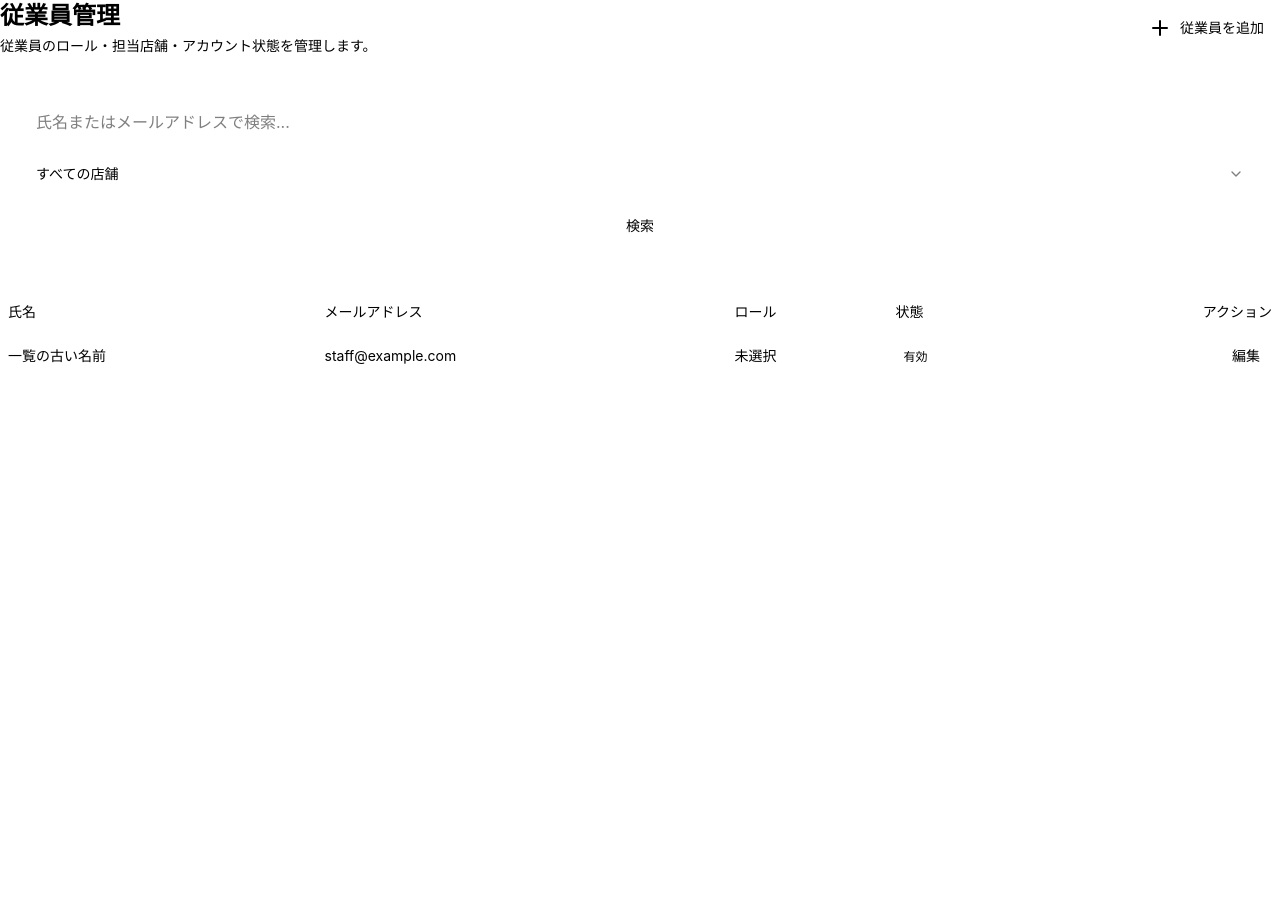
Test: 従業員 の詳細ライフサイクル › 未着の詳細を閉じ、同じ ID を開き直した後の古い失敗を無視する
Click the button "編集".
click(1246, 356)  # box [1220, 340, 1272, 372]
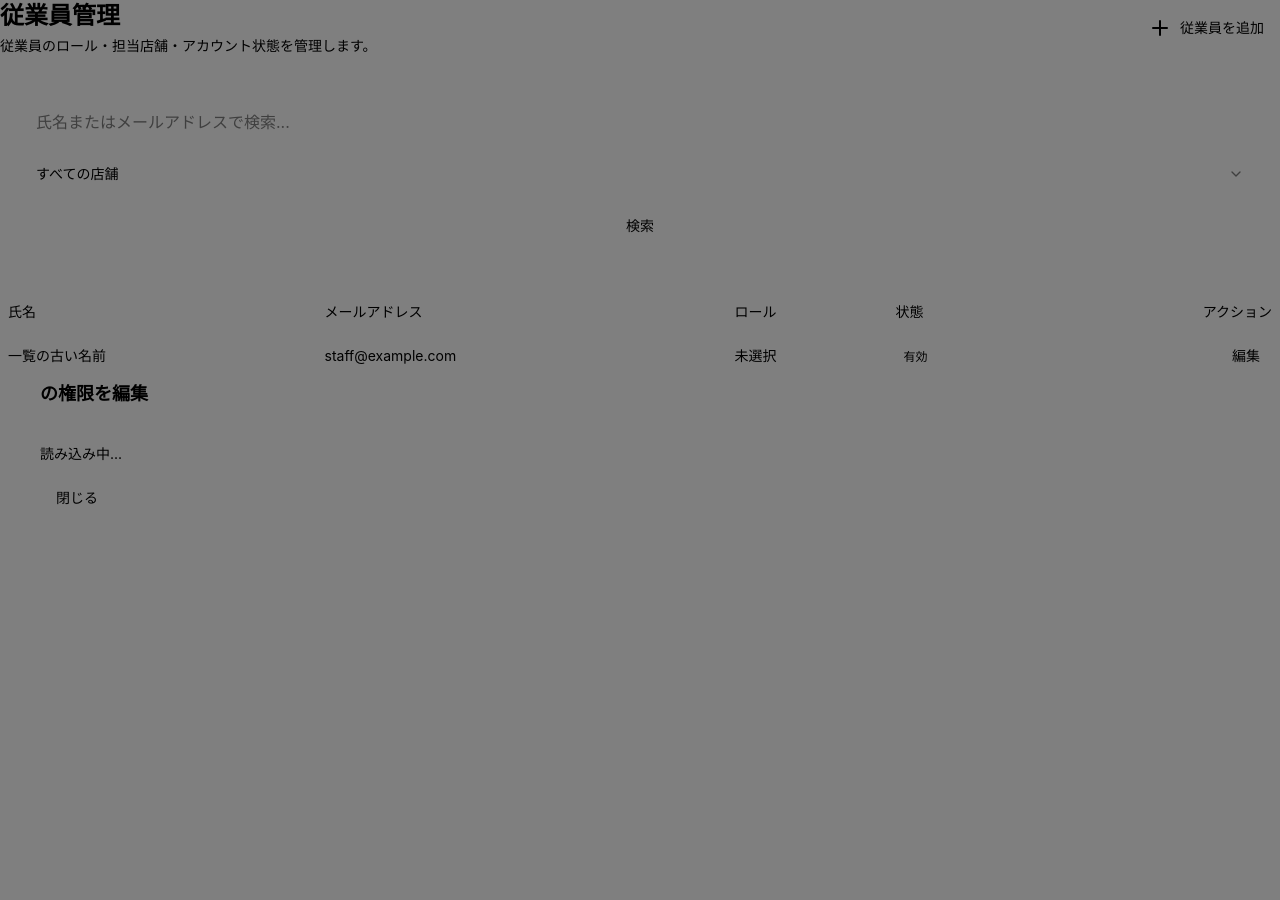
Click the button "閉じる".
click(77, 498)  # box [40, 480, 114, 516]
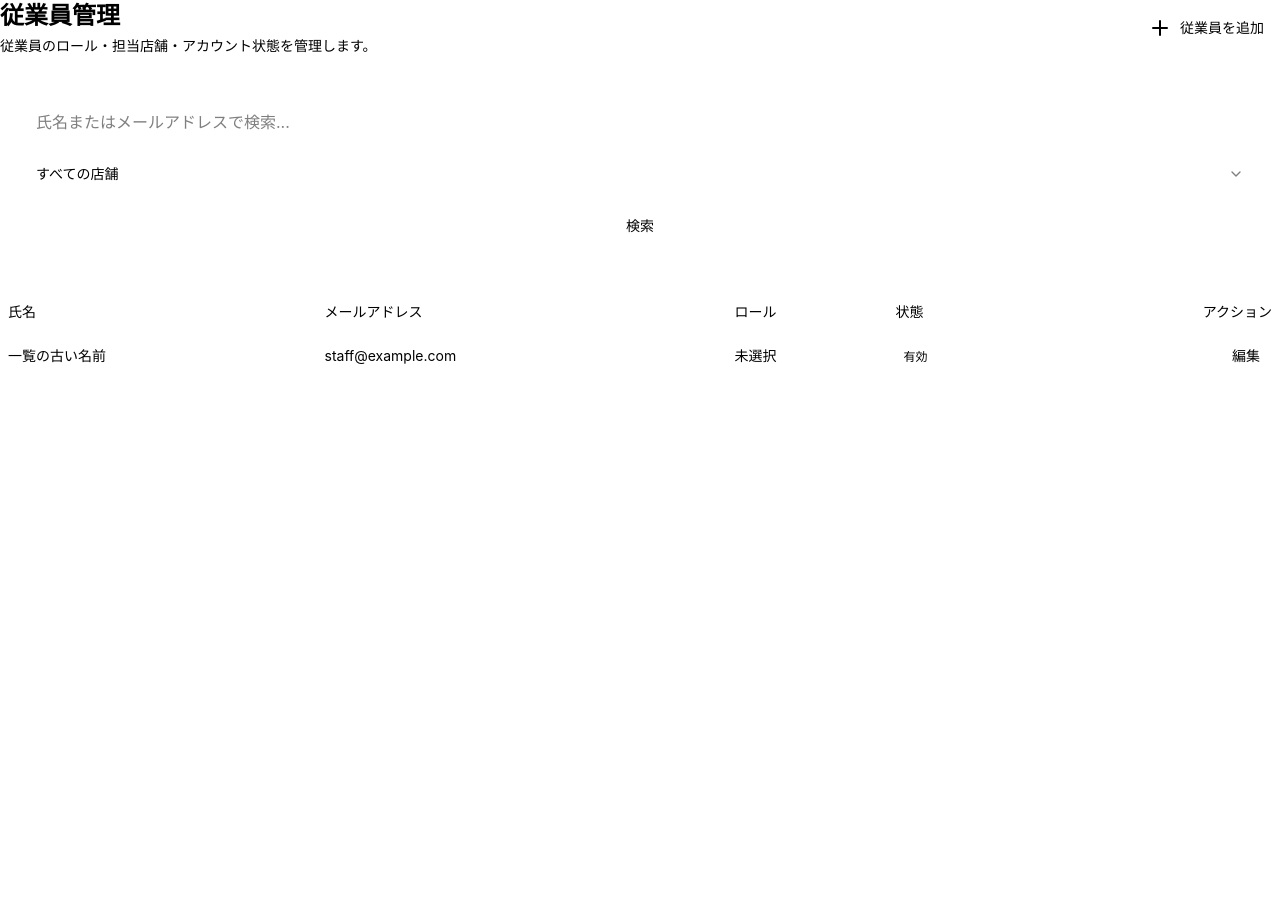
Click the button "編集".
click(1246, 356)  # box [1220, 340, 1272, 372]
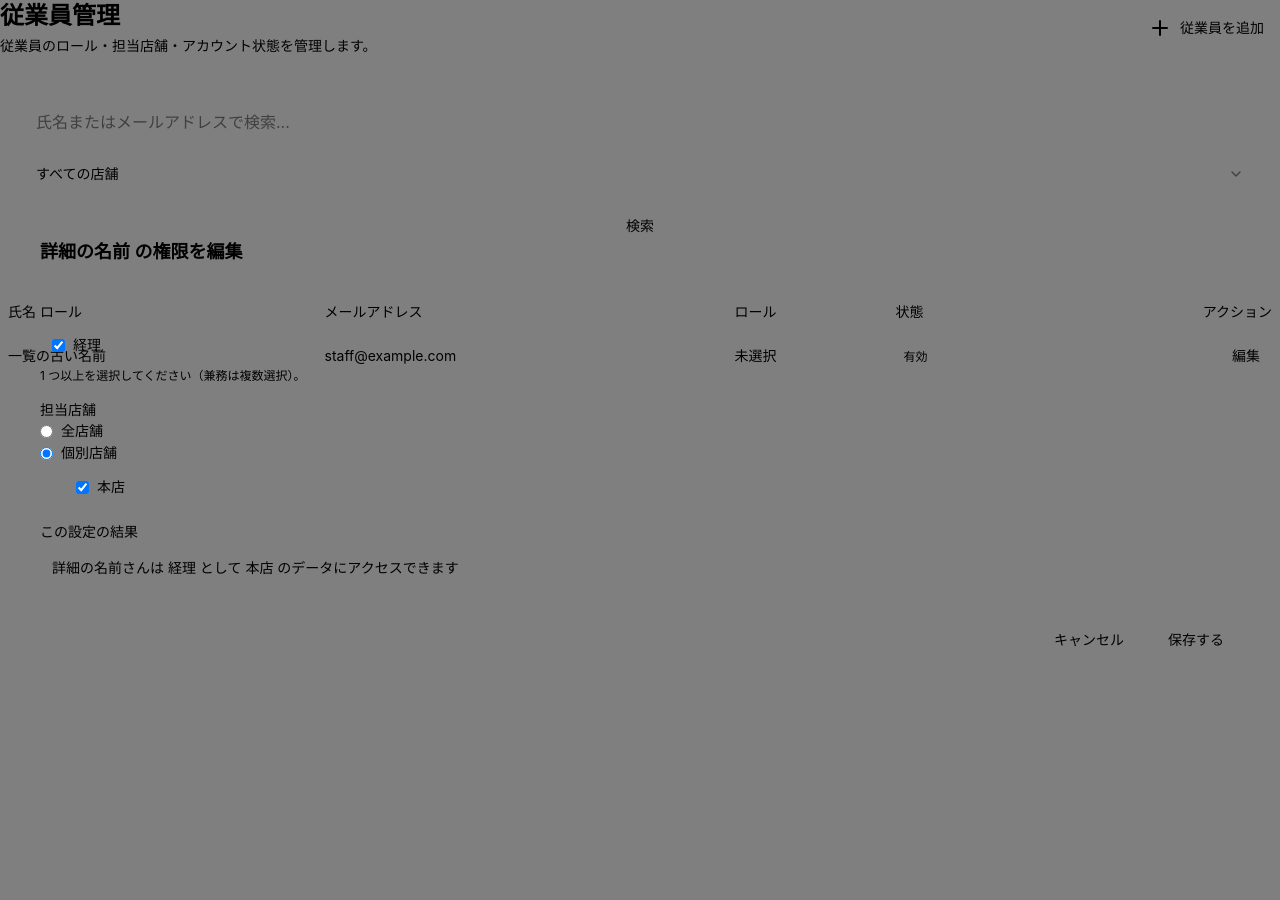
Expected: the button "保存する" is shown, [1152, 622, 1240, 658]
